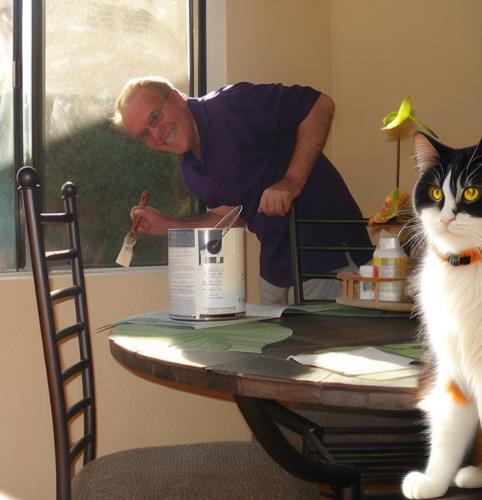cat: (396, 132, 482, 500)
chair: (16, 167, 312, 500), (286, 200, 463, 329)
person: (109, 72, 376, 310)
person/hand: (258, 181, 301, 217), (130, 205, 166, 236)
person/head: (116, 78, 195, 155)
